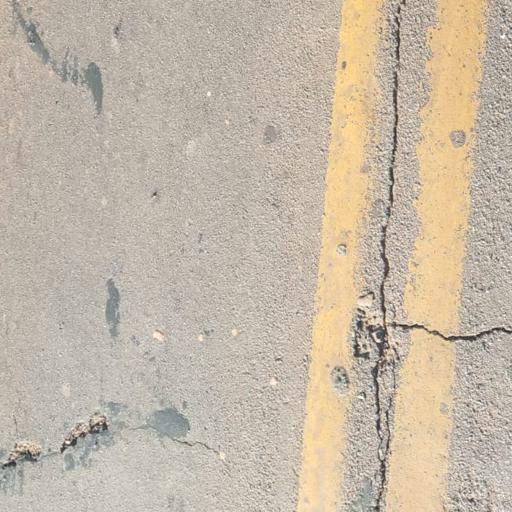GRIETA: (372, 0, 405, 511), (0, 413, 111, 470), (128, 423, 233, 474), (393, 322, 511, 341)
